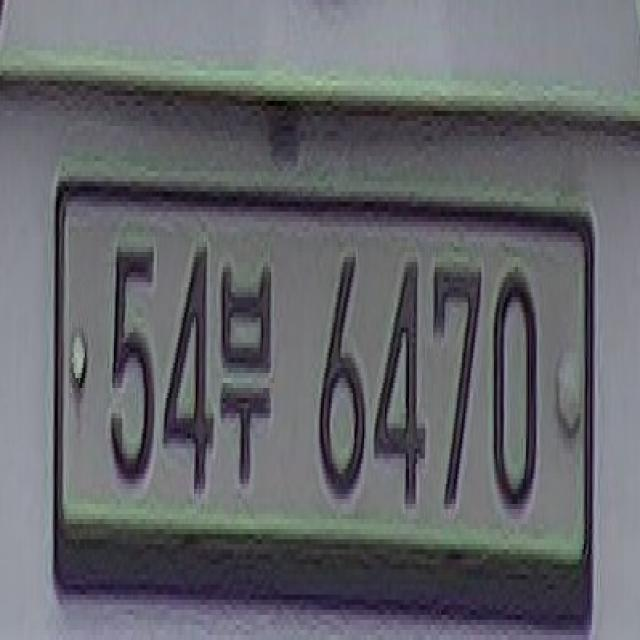0: (488, 235, 542, 514)
4: (370, 232, 428, 514), (162, 234, 215, 486)
5: (109, 229, 158, 487)
6: (312, 228, 368, 500)
7: (428, 233, 484, 515)
bu: (217, 238, 276, 500)
license_plate: (53, 164, 600, 636)
